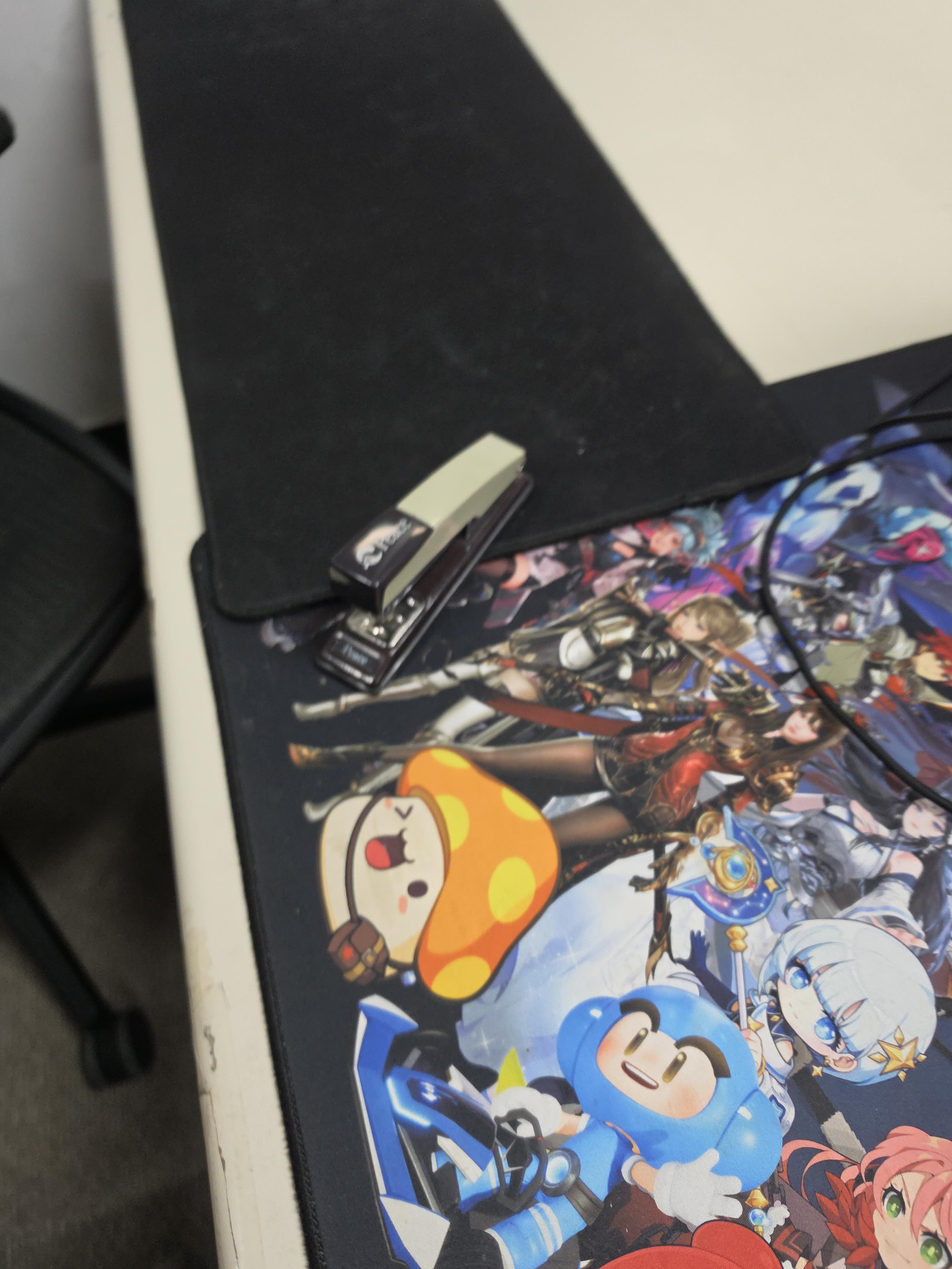stapler: (315, 432, 534, 694)
